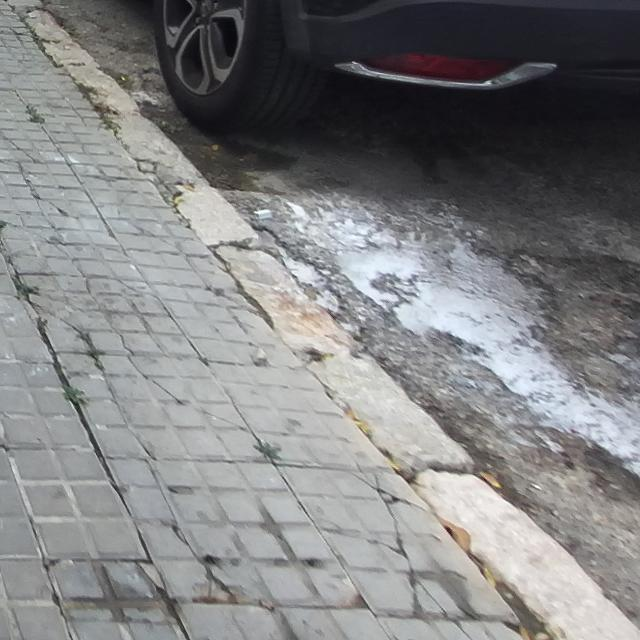calcada_quebrada: (355, 467, 448, 620), (139, 458, 235, 601), (127, 357, 260, 438), (30, 300, 88, 340), (3, 134, 38, 163)
